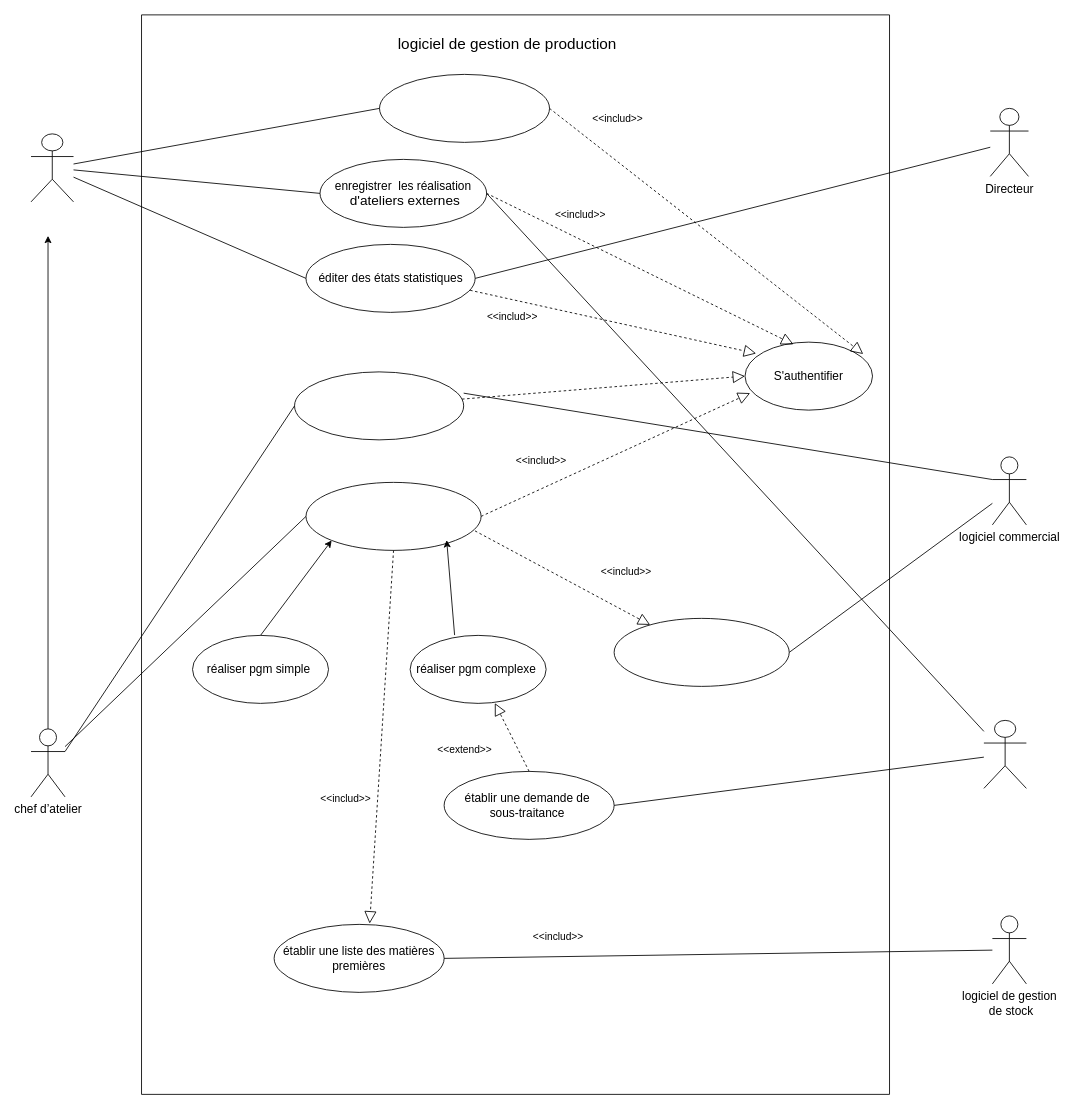
This 1074x1109 diagram has some shape labels left out. The centre of each missing label's shape, as x and y in pixels:
ateliers externes: the point at 1004,754
importer l’ordre de fabrication: the point at 701,652
l’agent: the point at 52,167
saisir le travail des employés: the point at 464,108
établir un état de production: the point at 379,405
étudier l’ordre de fabrication: the point at 393,516
